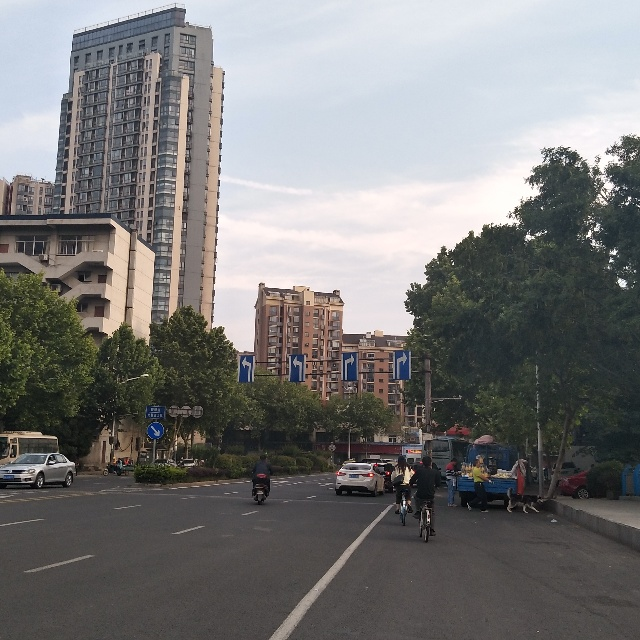left: (238, 355, 254, 383), (290, 355, 304, 383)
right: (392, 351, 413, 380), (339, 354, 360, 380)
